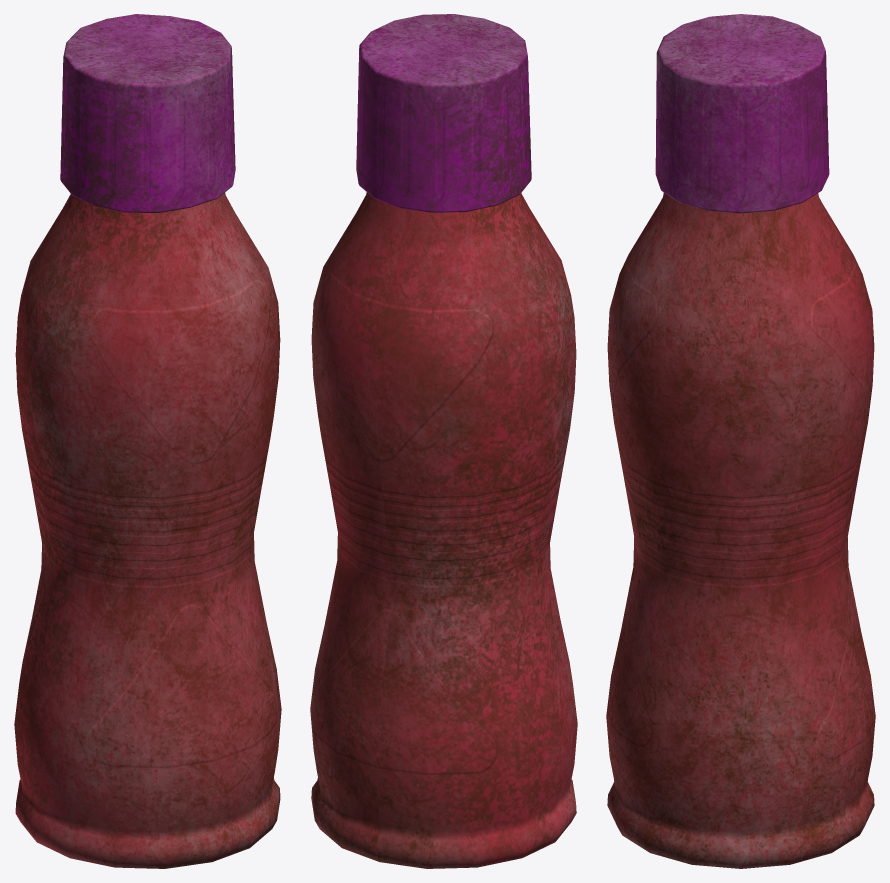
File: BottleWater3.fbx
3 renders of one model, left to right at view 1: azimuth 30°, elevation 25°; view 2: azimuth 150°, elevation 25°; view 3: azimuth 270°, elevation 25°, orthographic.
Parts seen in each view (by area): view 1: BotleWater3; view 2: BotleWater3; view 3: BotleWater3.
Boxes of the visible parts, x1,y1,x2,y2 form: BotleWater3: [14, 14, 281, 868]; BotleWater3: [310, 14, 577, 868]; BotleWater3: [606, 14, 875, 868].
Bounding box in the file's own units: 8.61 × 27.22 × 8.61.
